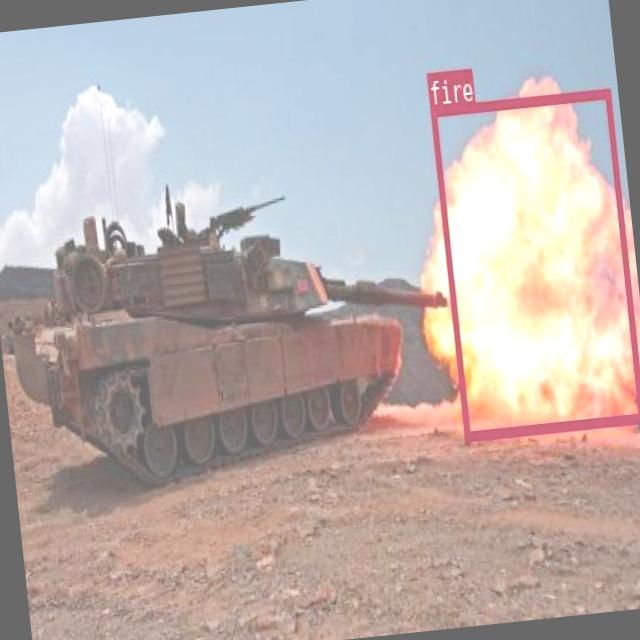fire: (429, 86, 640, 439)
